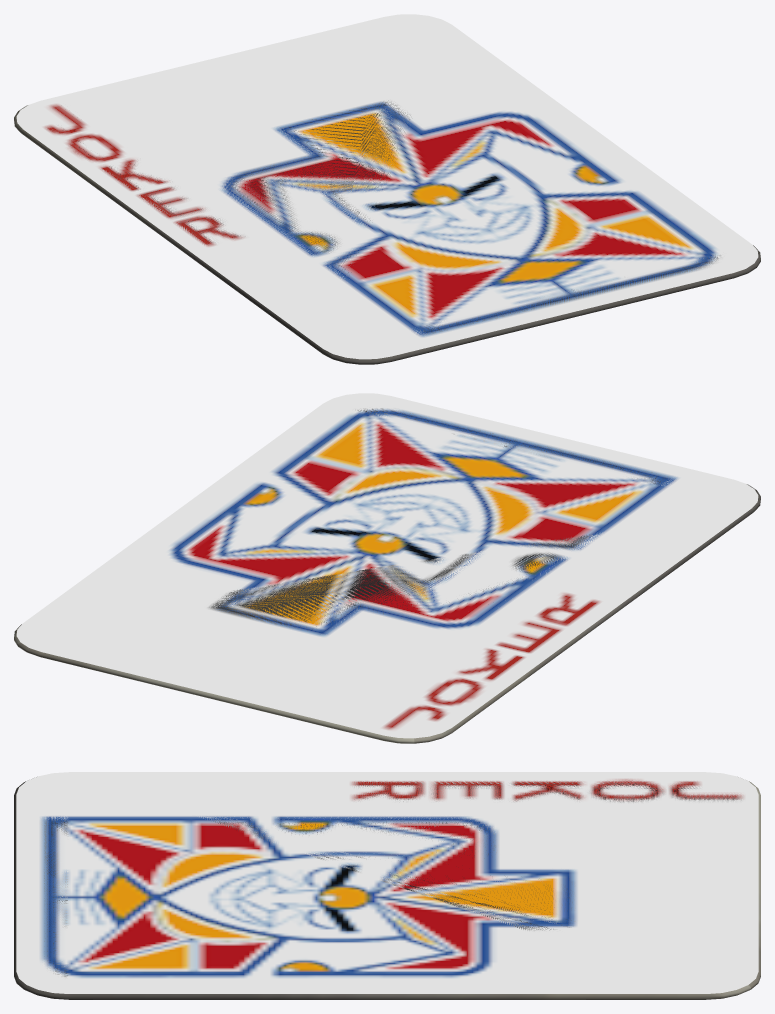
File: poker.FBX
3 views of the same model, one above another, from view 1: azimuth 30°, elevation 25°; view 2: azimuth 150°, elevation 25°; view 3: azimuth 270°, elevation 25° (orthographic). The views are drawn at different scales.
Visible parts, largest first — view 1: JokerA, JokerB; view 2: JokerA, JokerB; view 3: JokerA, JokerB.
Part boxes in pixels (bbox=[...]): JokerA: bbox=[14, 14, 760, 364]; JokerB: bbox=[14, 14, 760, 364]; JokerA: bbox=[14, 393, 760, 743]; JokerB: bbox=[14, 393, 760, 743]; JokerA: bbox=[16, 772, 760, 999]; JokerB: bbox=[14, 772, 760, 998].
Size of the model in its own units: 312 by 3.73 by 441.
